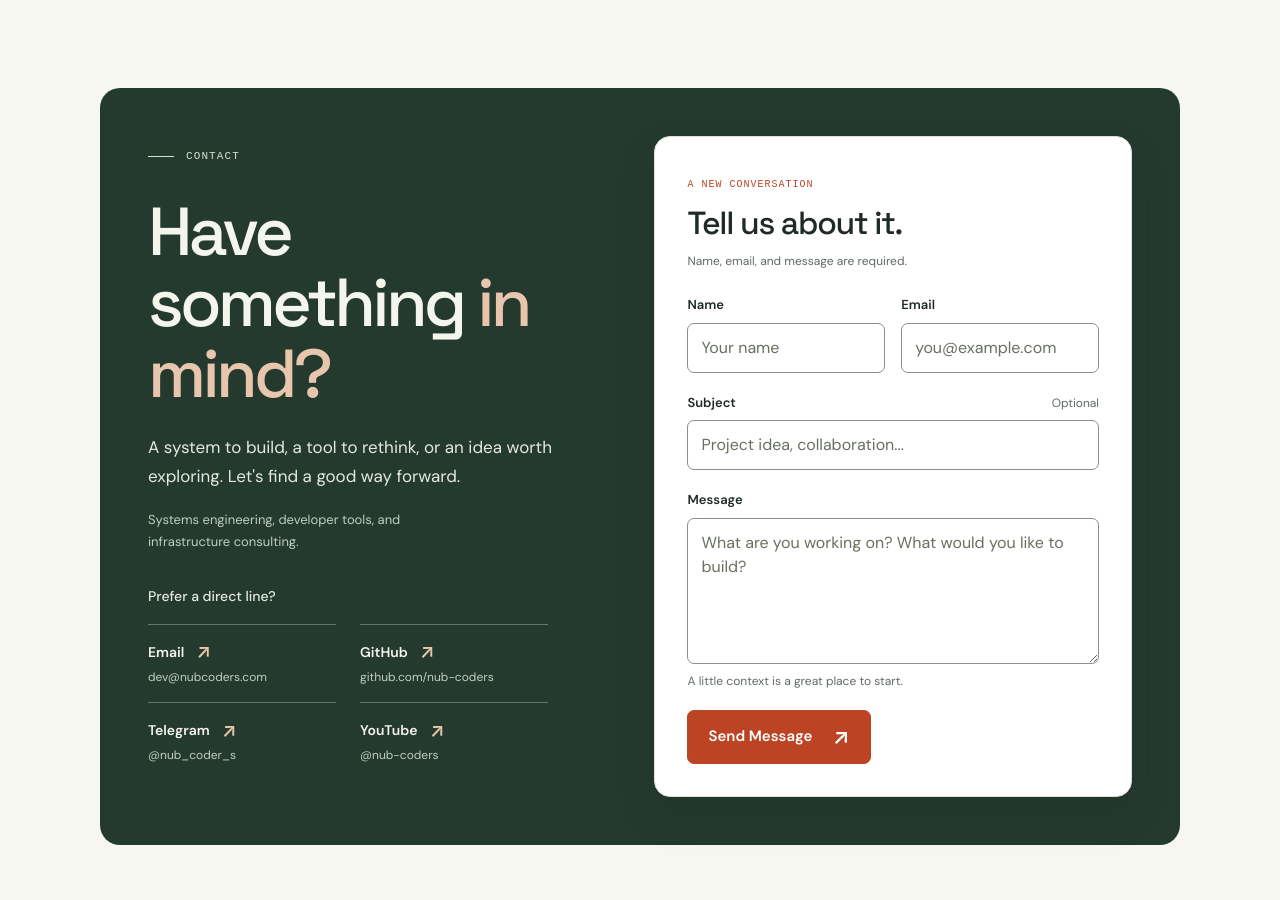
ContactSection › shows success feedback and clears the form on a 200 response
Type "Jane Recruiter" into the field labelled "Name" at (786, 348), box [688,323,885,373]
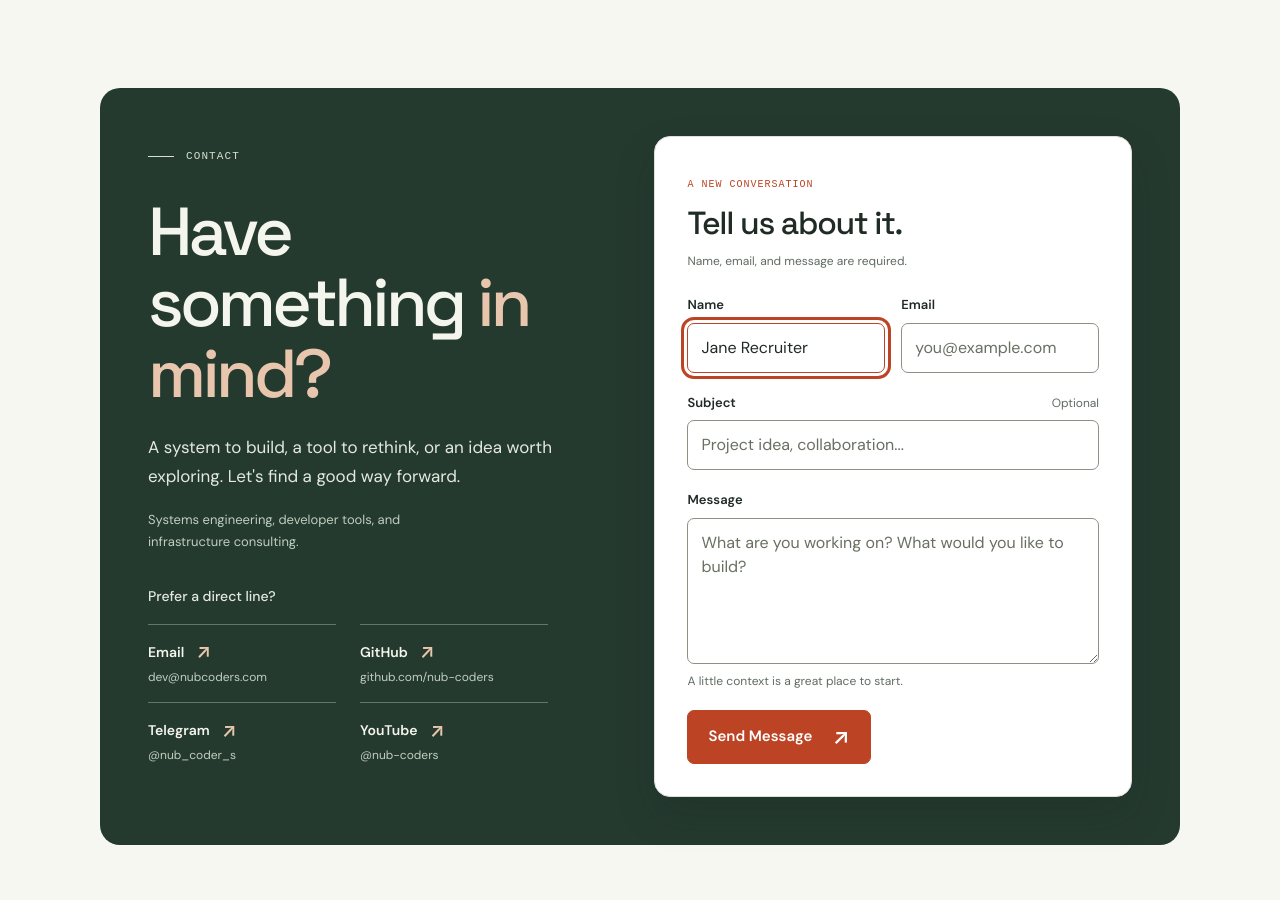
Type "jane@example.com" into the field labelled "Email" at (1000, 348), box [901,323,1099,373]
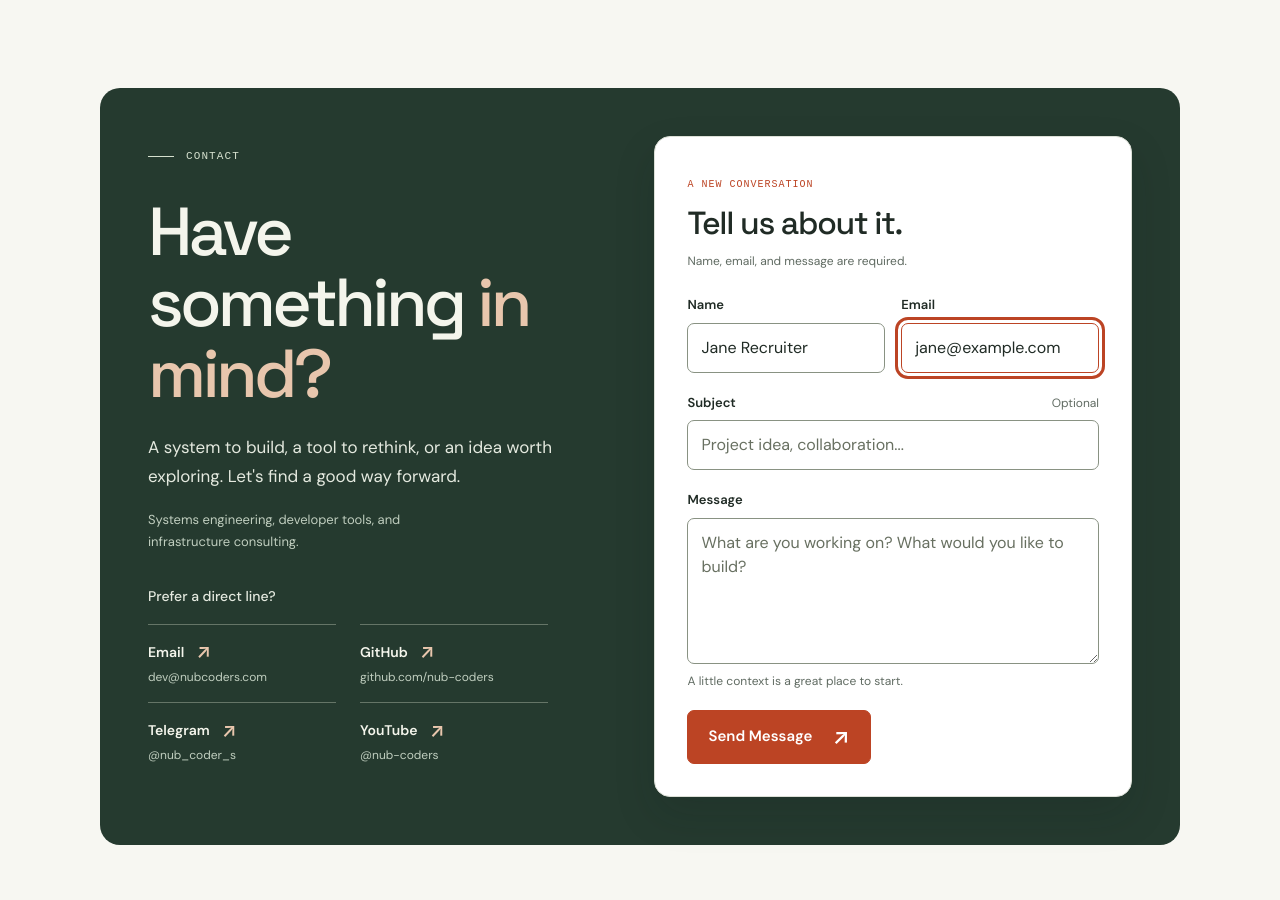
Type "Let's talk about a role." into the text box labelled "Message" at (893, 591), box [688,518,1099,664]
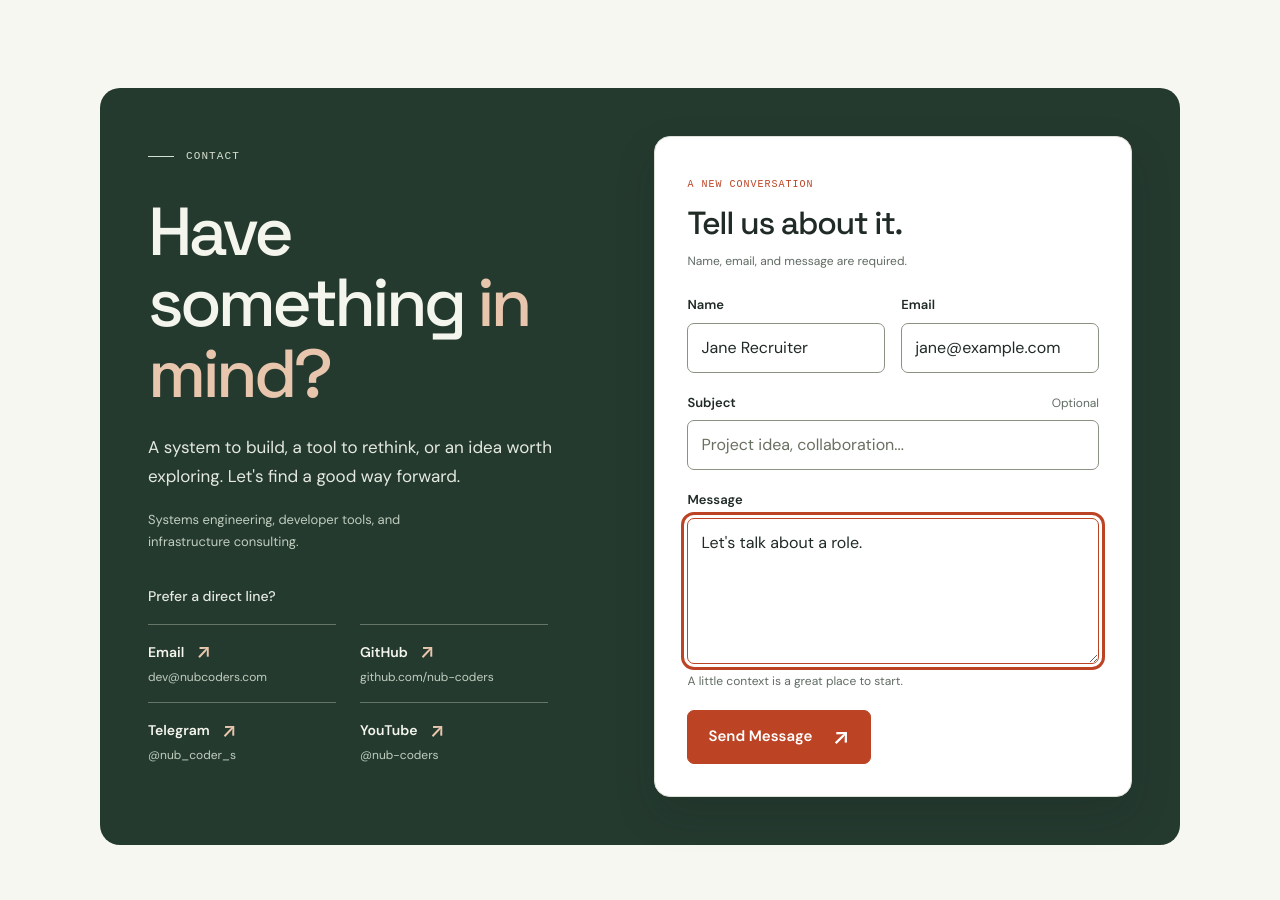
Click the button "Send Message ↗" at (779, 737), box [688,710,871,764]
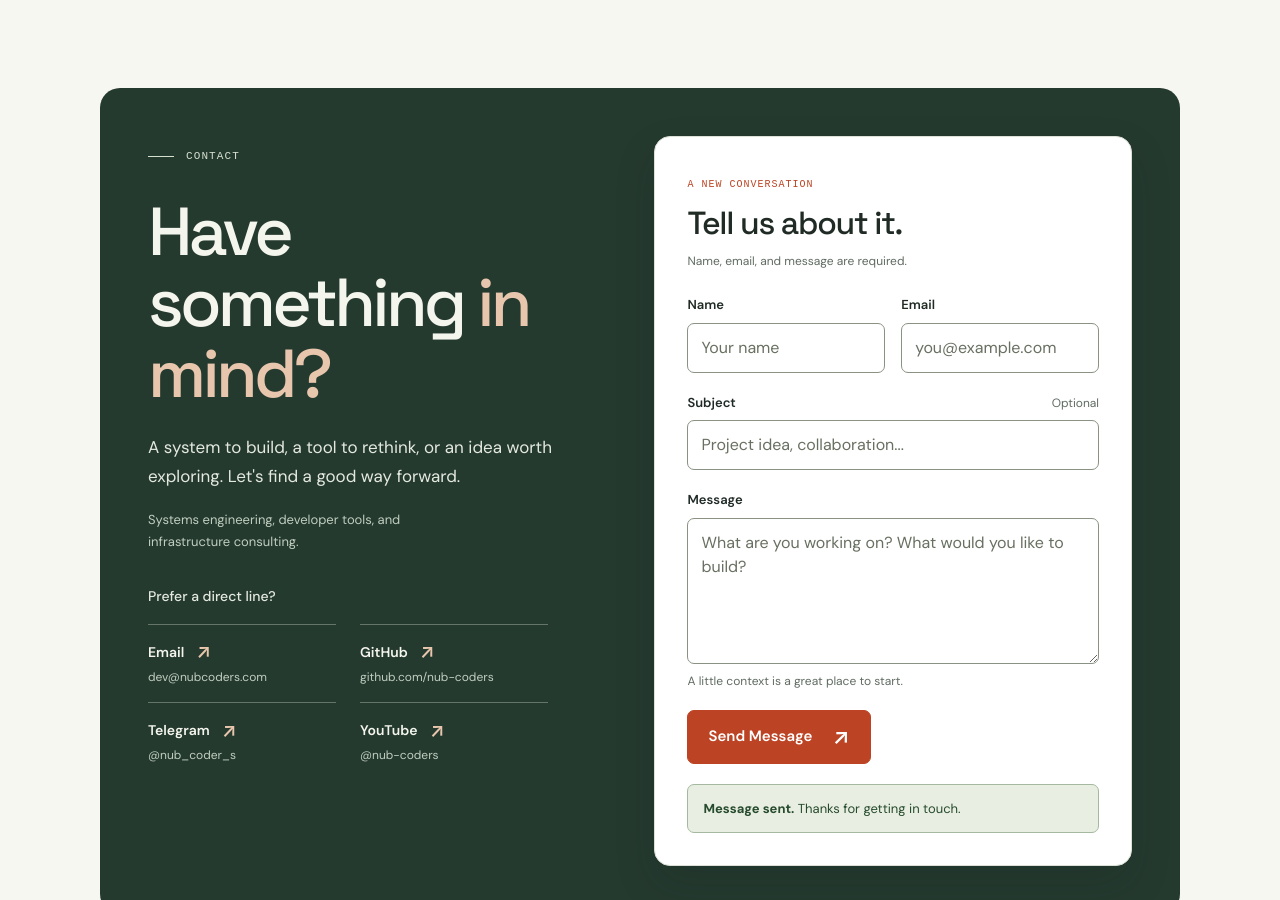
Result: the message shows "Message sent" at [704,800,794,817]
Result: the field labelled "Name" is empty at [688,323,885,373]
Result: the field labelled "Email" is empty at [901,323,1099,373]
